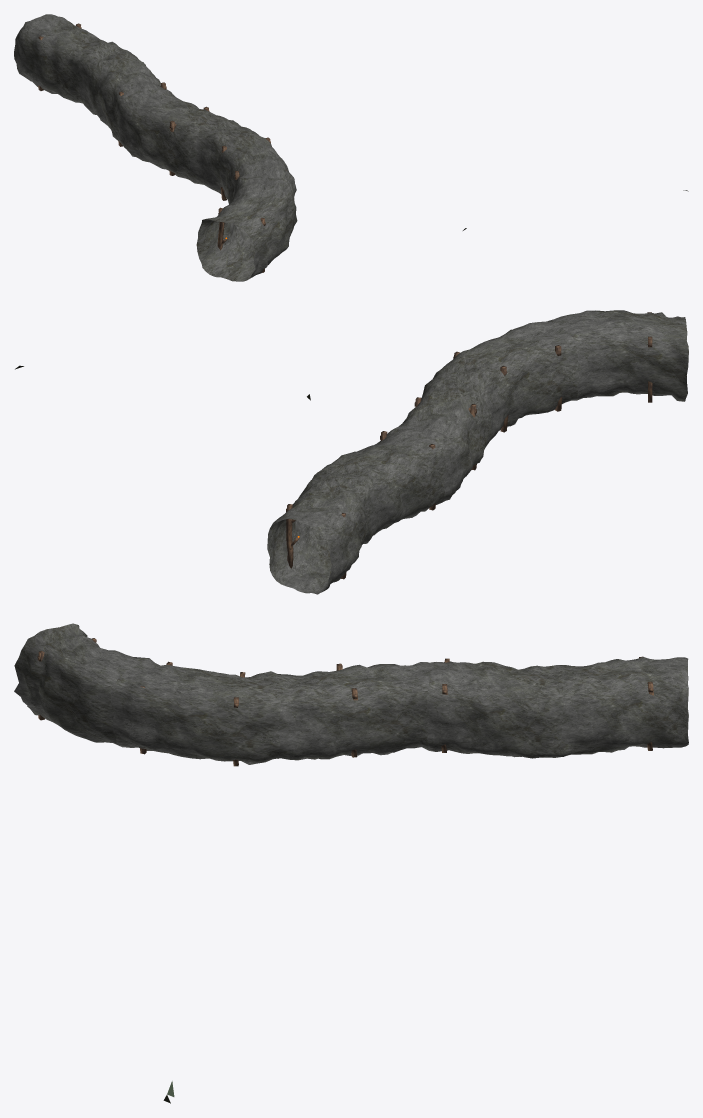
Rendered from cave.gltf.
3 renders of one model, top to bottom at view 1: azimuth 30°, elevation 25°; view 2: azimuth 150°, elevation 25°; view 3: azimuth 270°, elevation 25°, orthographic. The views are drawn at different scales.
Visible parts, largest first — view 1: Cube026; view 2: Cube026; view 3: Cube026.
Part boxes in pixels (x1,y1,x2,y2): Cube026: (14, 14, 297, 281); Cube026: (267, 310, 688, 594); Cube026: (14, 623, 688, 764).
Size of the model in its own units: 96.18 by 23.54 by 84.96.
5 materials, 4 textured.
